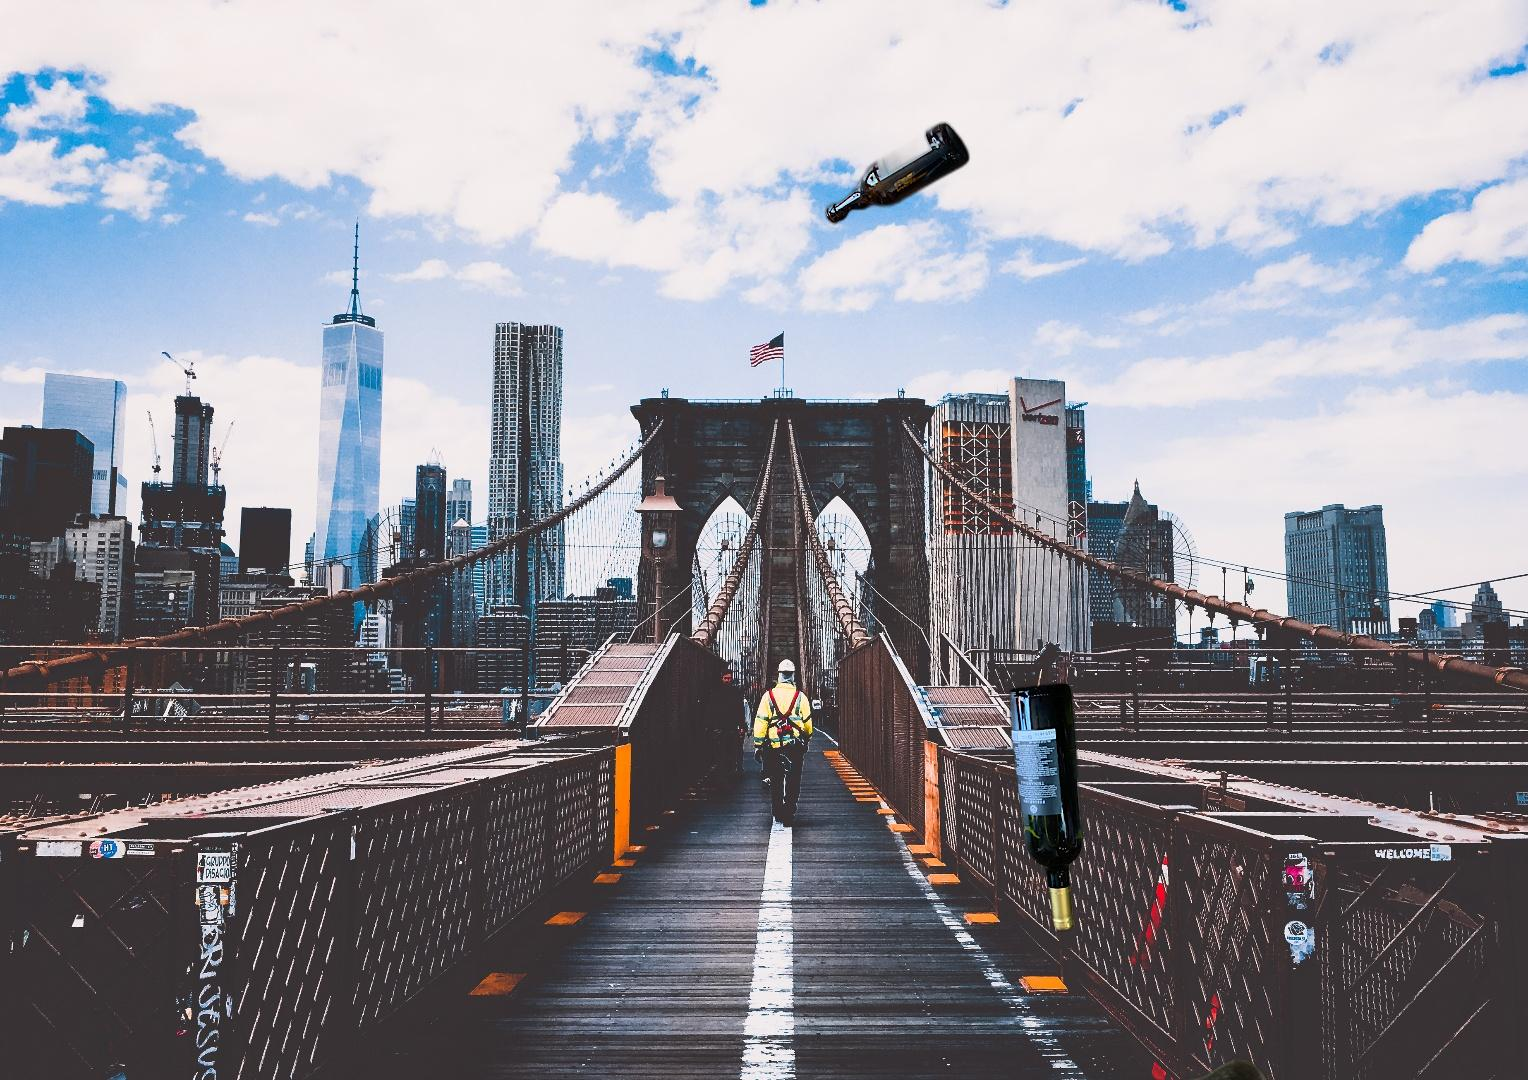glass: (1005, 677, 1088, 936), (822, 116, 974, 230)
shoes: (980, 1051, 1318, 1080)
